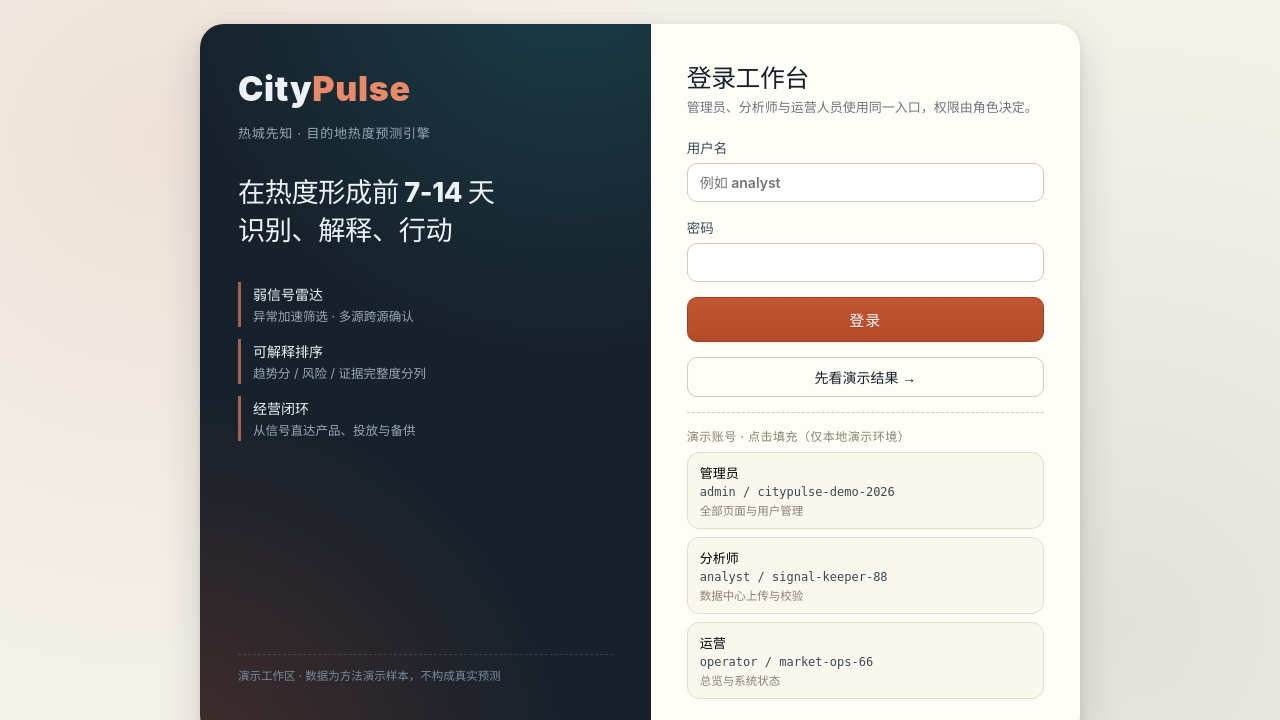
Scenario: clicking a demo account fills the form
Click the button "分析师 analyst / signal-keeper-88 数据中心上传与校验" at [865, 575], box [687,537,1044,614]
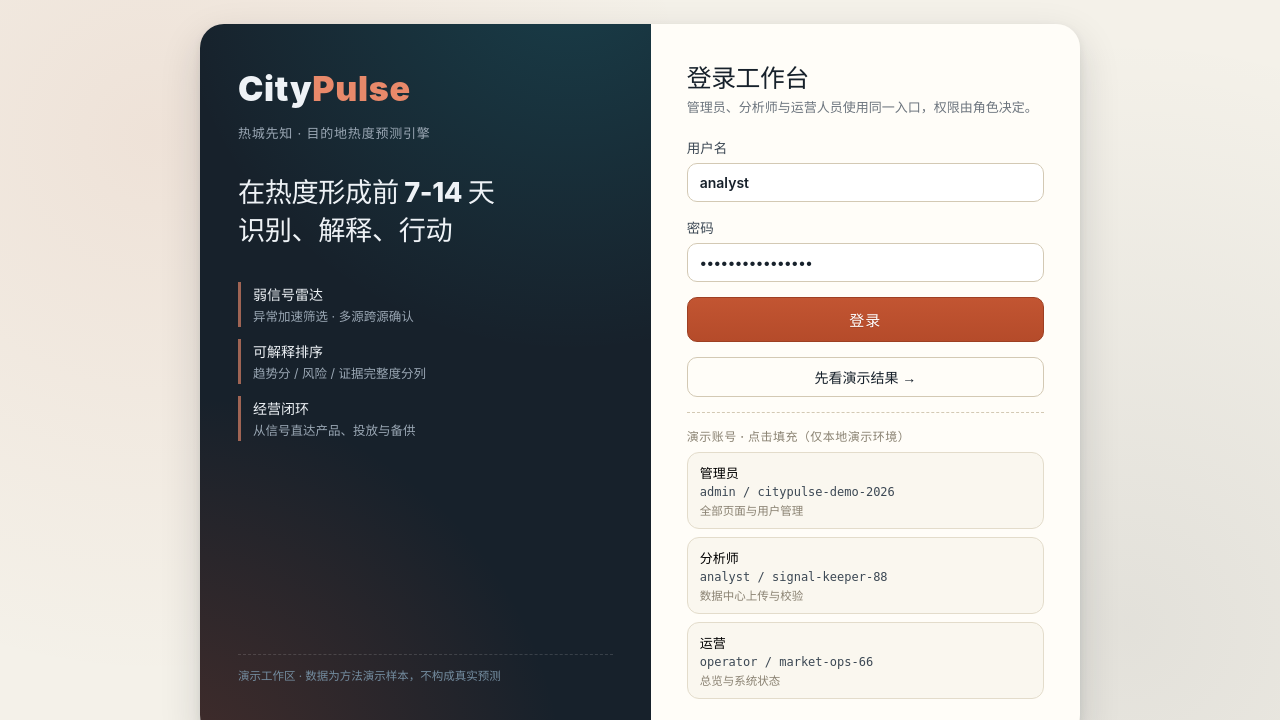
Result: the field labelled "用户名" holds "analyst" at [687,163,1044,202]
Result: the password field labelled "密码" holds "signal-keeper-88" at [687,243,1044,282]
